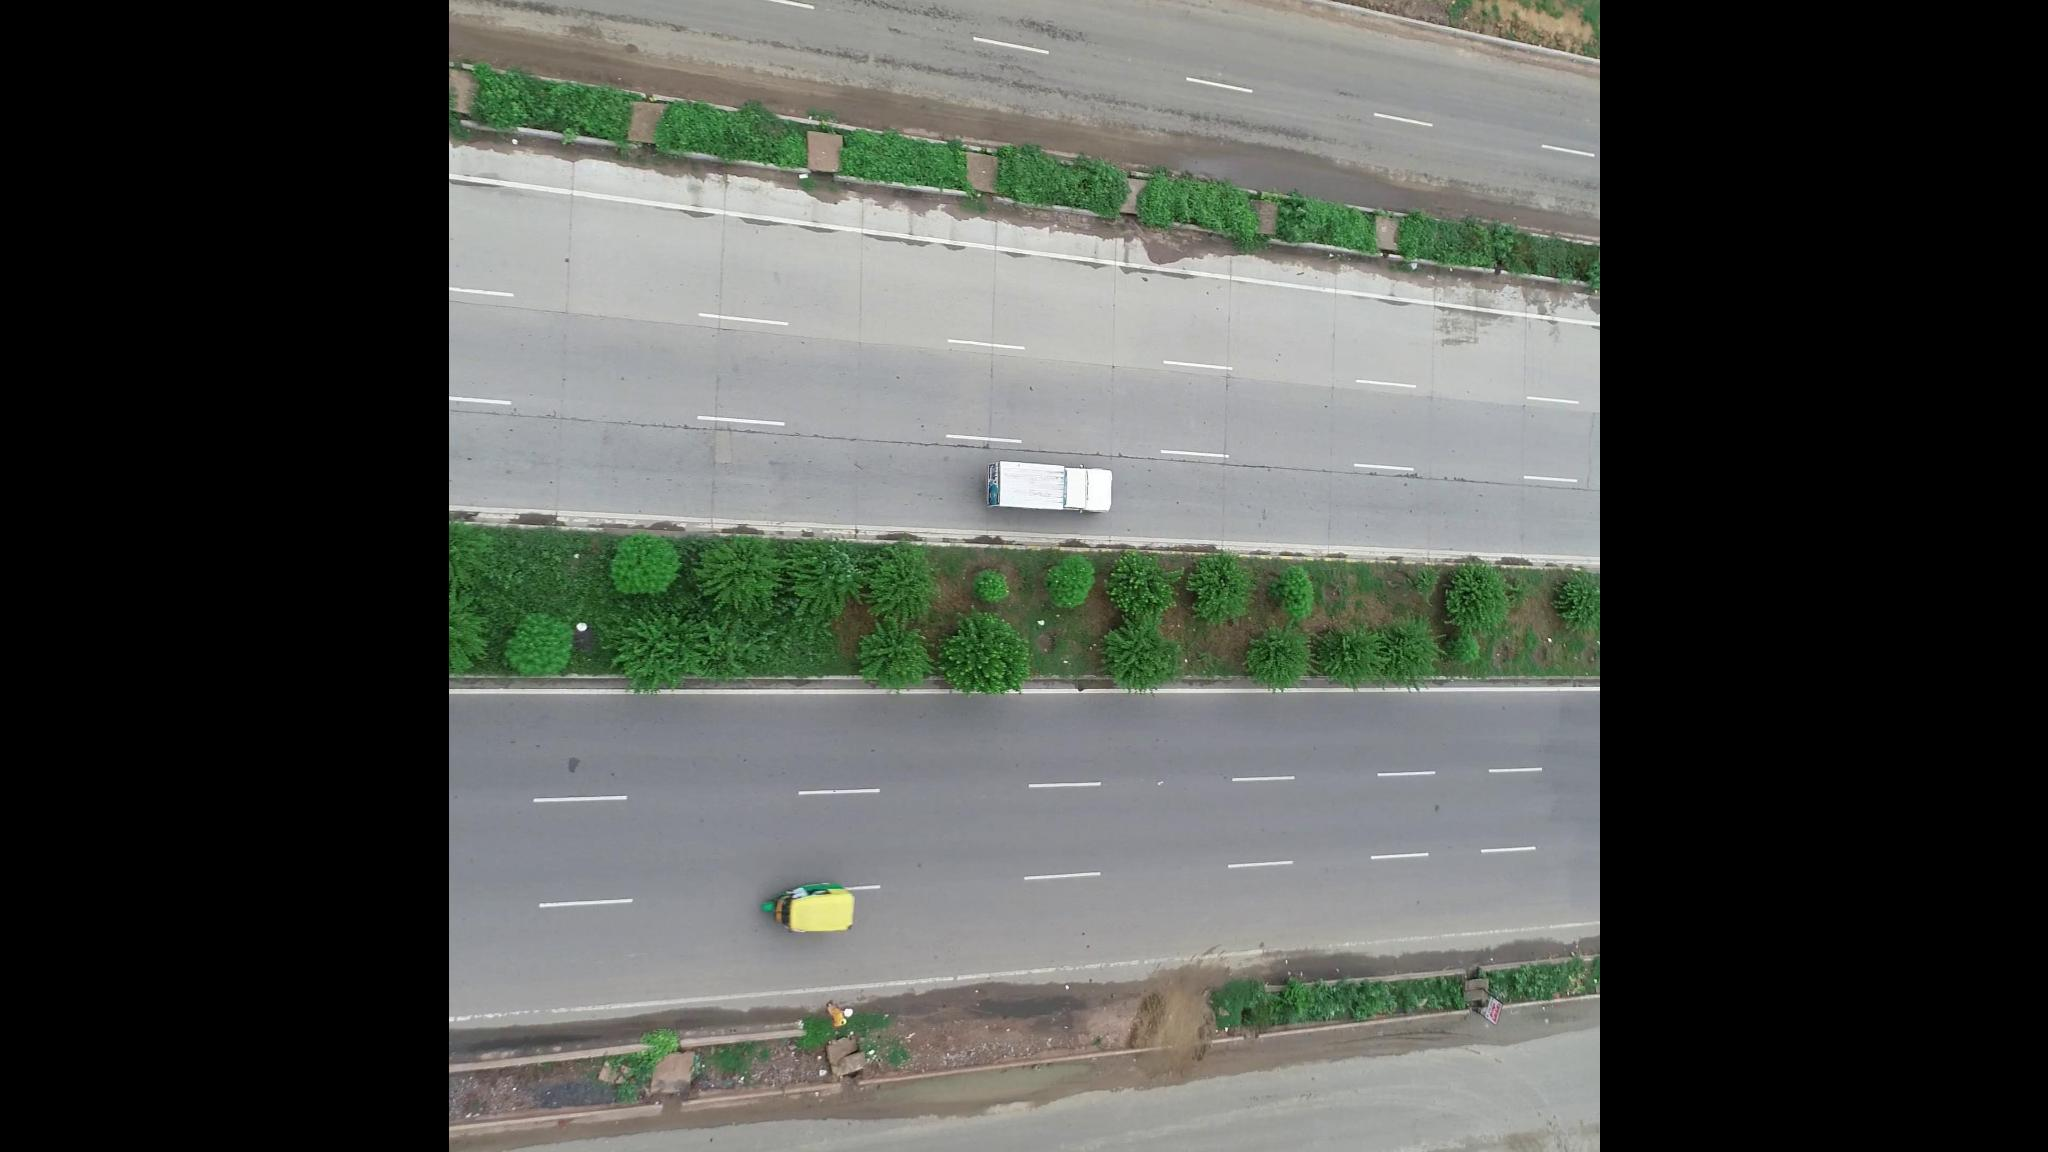Waterlogging: (888, 1061, 1092, 1110)
